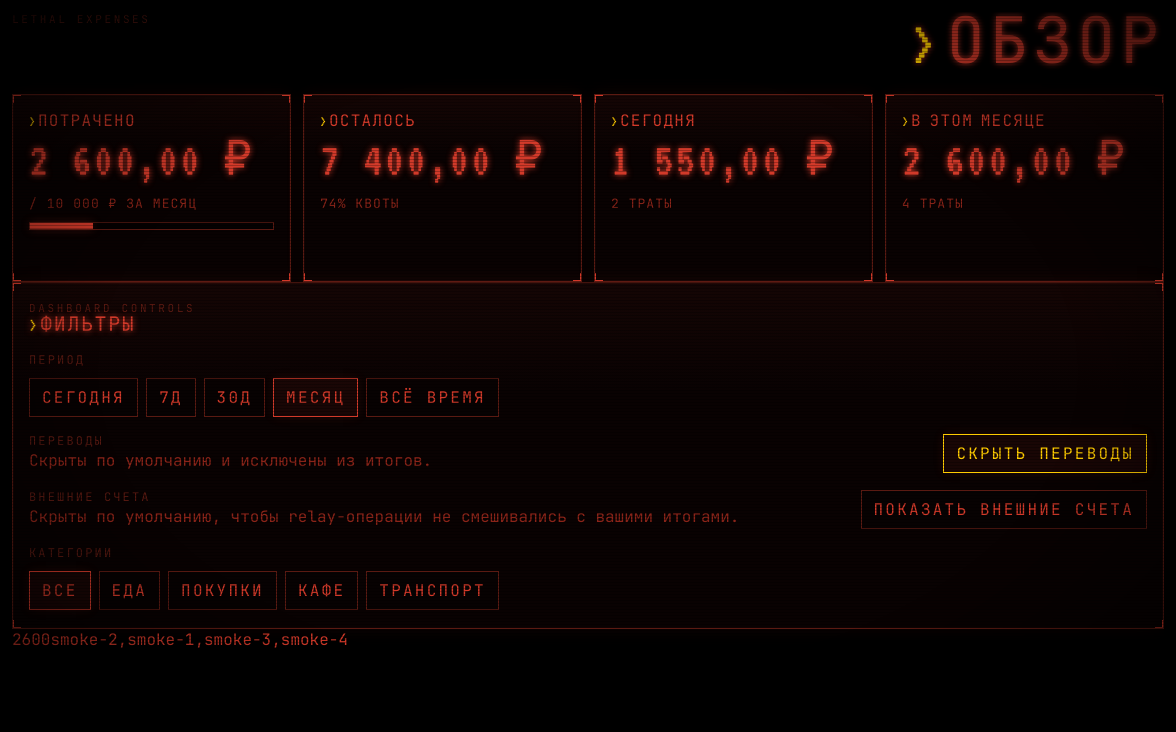
Scenario: Filters › updates overview totals and filtered rows through dashboard state
Expected: the text with test id "filtered-total" reads "2600", x1=12 y1=629 x2=50 y2=650
Expected: the text with test id "overview-spent-value" shows "2", x1=29 y1=137 x2=202 y2=185
Click the switch labelled "СКРЫТЬ ПЕРЕВОДЫ". click: (1045, 453)
box: x1=943 y1=434 x2=1147 y2=472
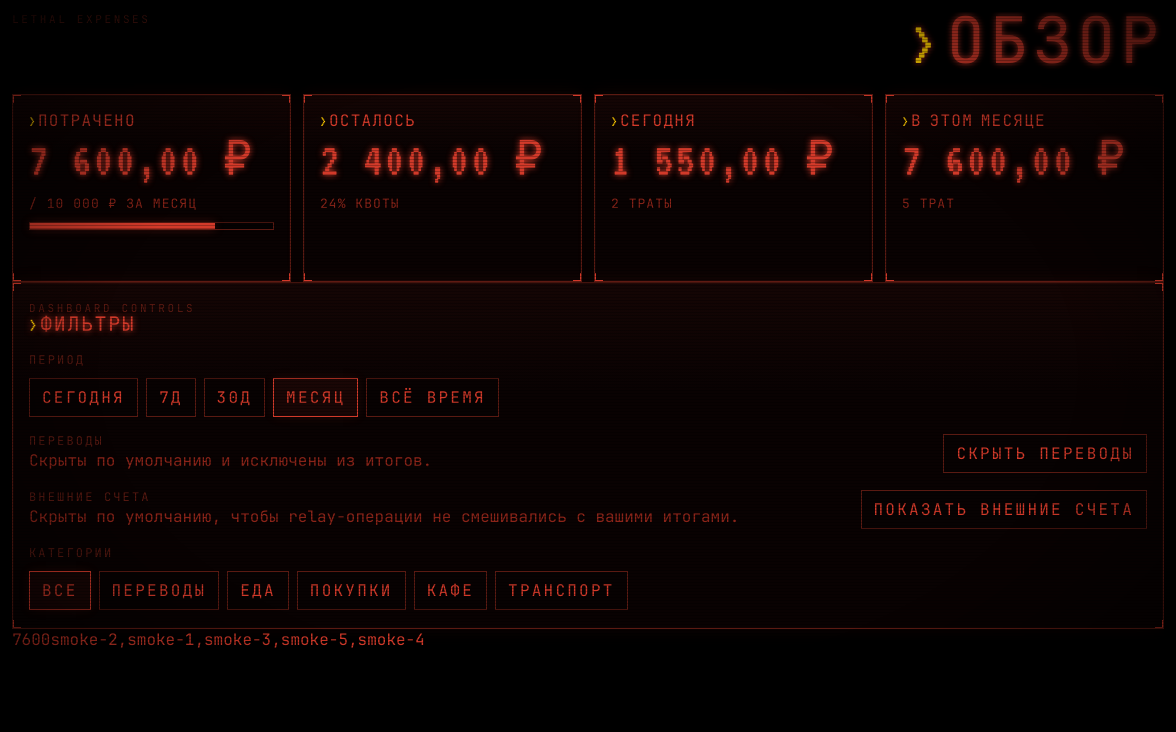
Expected: the text with test id "filtered-total" reads "7600", x1=12 y1=629 x2=50 y2=650
Click the button "СЕГОДНЯ". click: (83, 398)
box: x1=29 y1=378 x2=138 y2=417
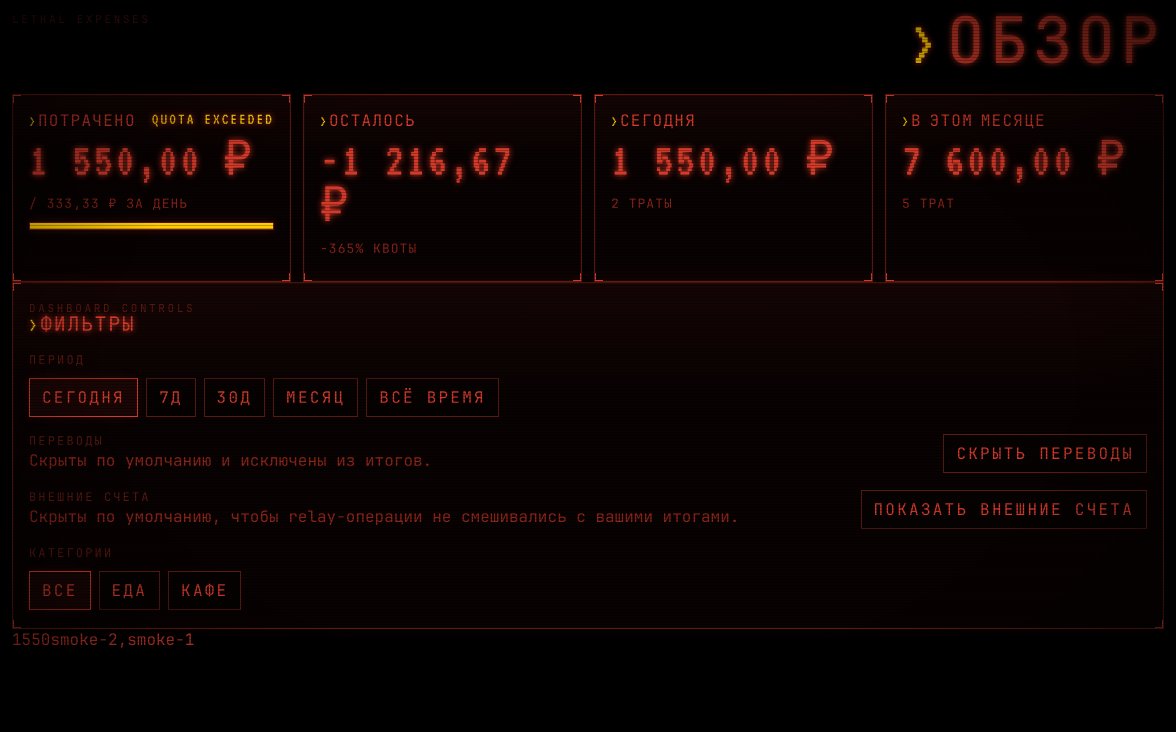
Expected: the text "В ЭТОМ МЕСЯЦЕ" reads "В ЭТОМ МЕСЯЦЕ 7 600,00 ₽ 5 трат", x1=885 y1=94 x2=1164 y2=282
Expected: the text with test id "filtered-total" reads "1550", x1=12 y1=629 x2=50 y2=650
Expected: the text "/ 333,33 ₽ за день" is shown, x1=29 y1=195 x2=188 y2=212
Click the button "Еда". click: (129, 590)
box: x1=98 y1=571 x2=160 y2=610
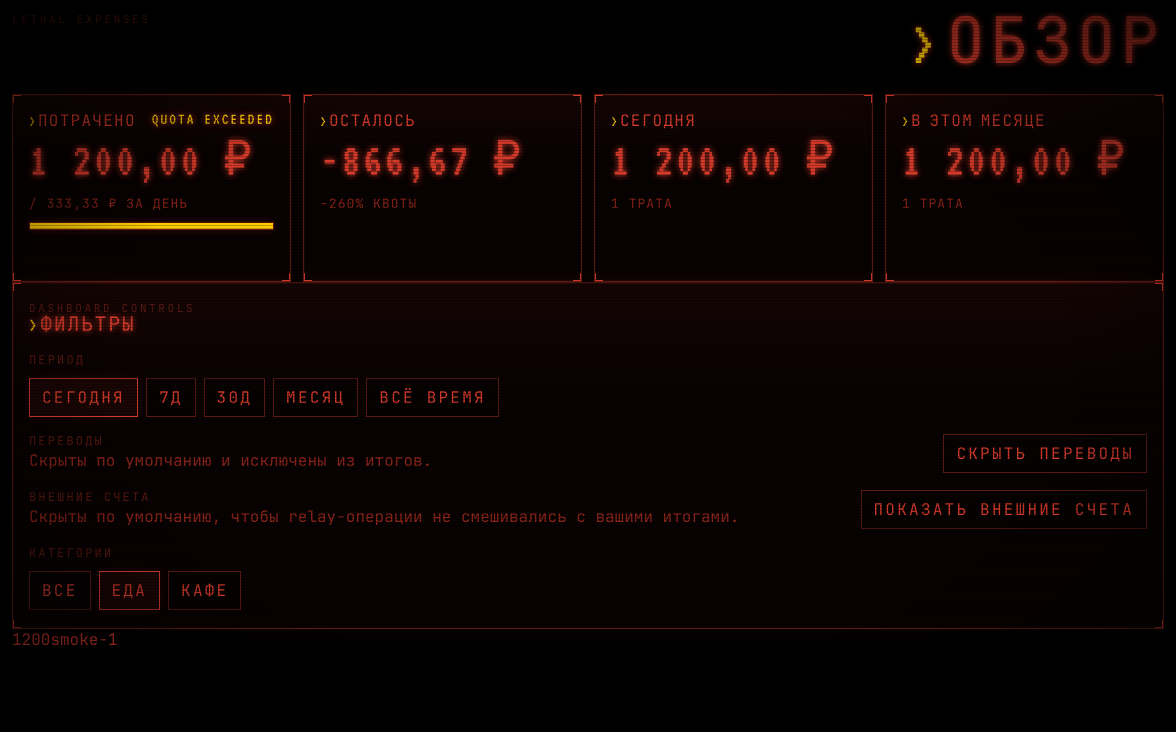
Expected: the text with test id "filtered-total" reads "1200", x1=12 y1=629 x2=50 y2=650
Expected: the text with test id "filtered-ids" reads "smoke-1", x1=50 y1=629 x2=118 y2=650
Click the button "ВСЕ". click: (60, 590)
box: x1=29 y1=571 x2=90 y2=610
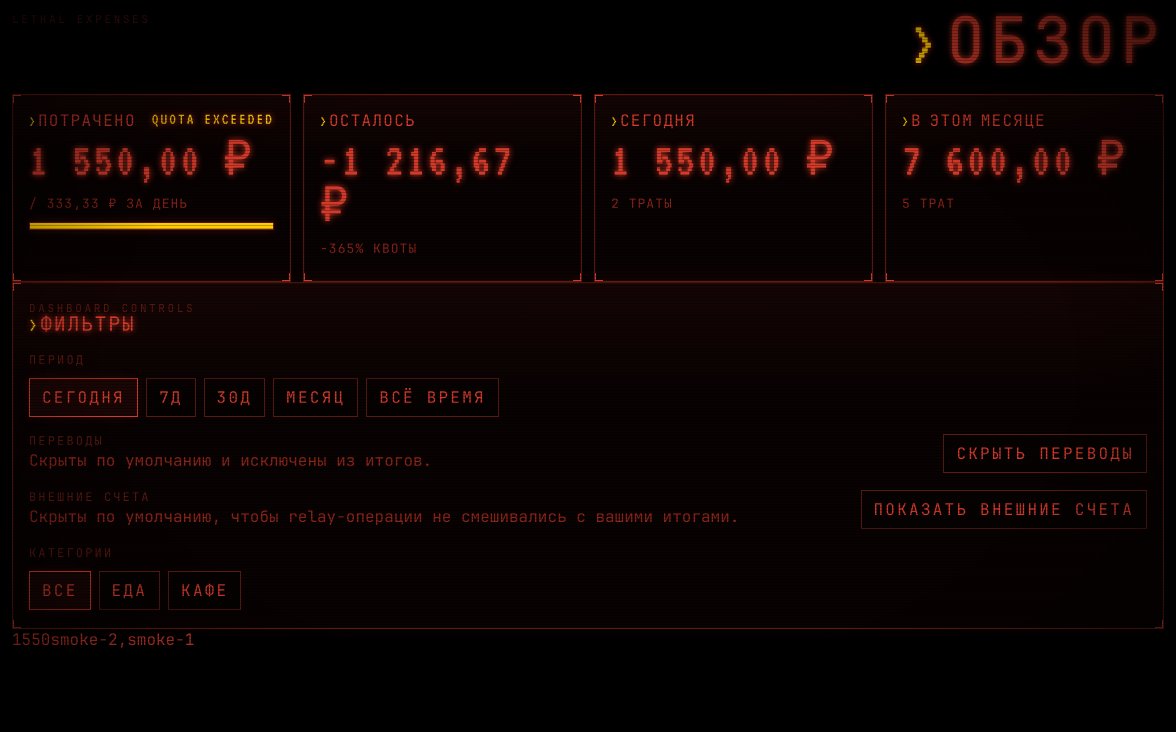
Expected: the text with test id "filtered-total" reads "1550", x1=12 y1=629 x2=50 y2=650
